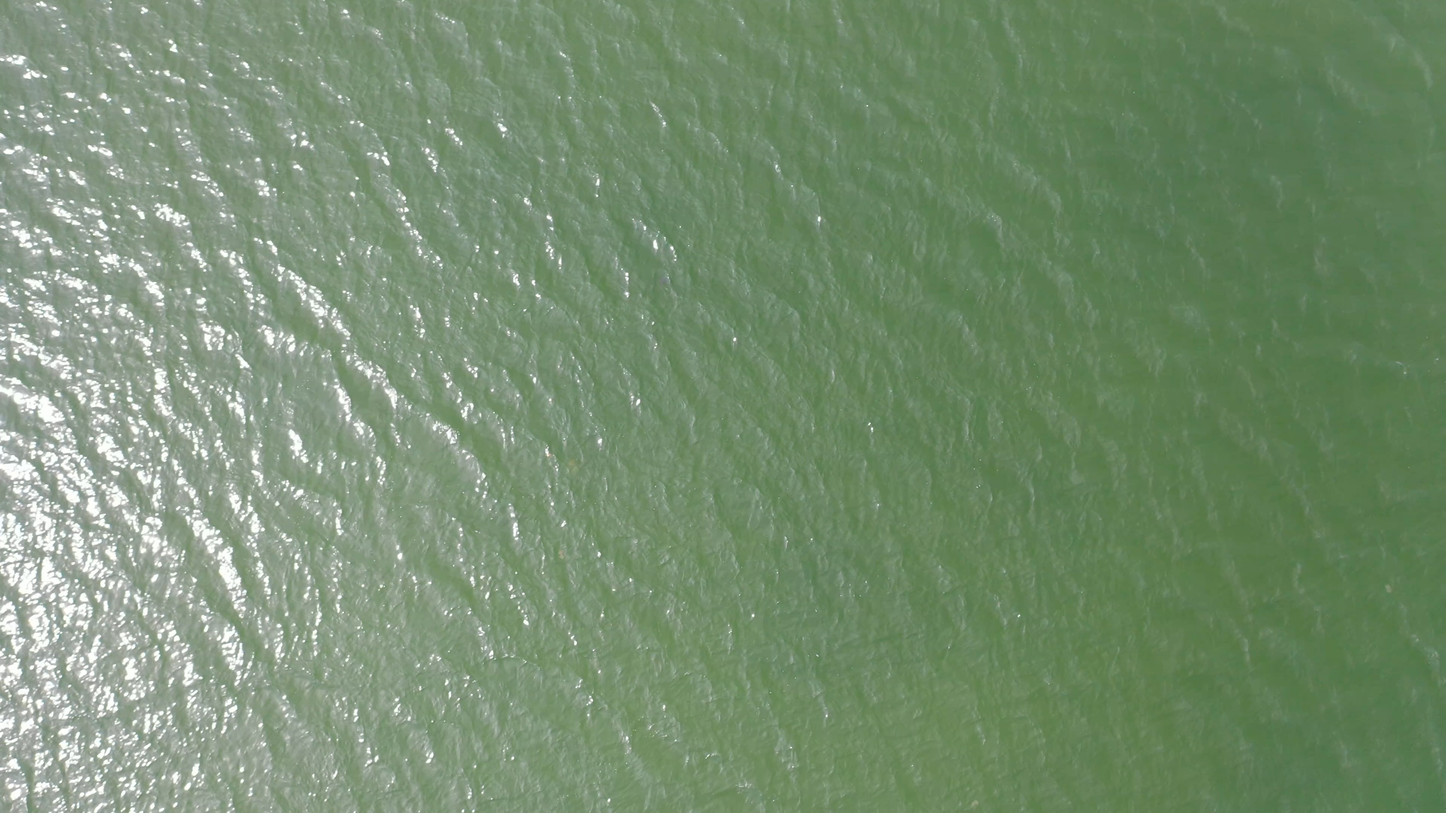meduse: (1385, 585, 1393, 594)
